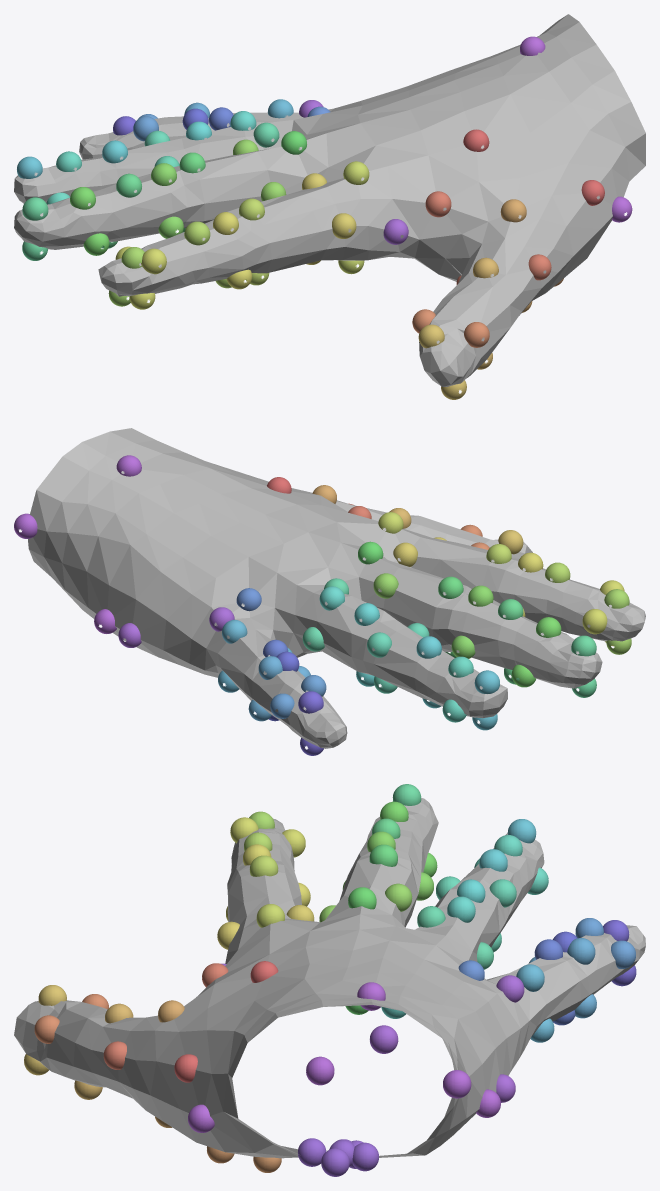
The model's file is mano_flat_hand_anchor_groups.glb.
The picture shows the model from 3 angles, top to bottom: view 1: azimuth 30°, elevation 25°; view 2: azimuth 150°, elevation 25°; view 3: azimuth 270°, elevation 25°; orthographic projection. The views are drawn at different scales.
Parts seen in each view (by area): view 1: flat_hand_mesh, thumb_segment_2_ring_01_v014; view 2: flat_hand_mesh, index_segment_3_ring_00_v336, middle_segment_1_ring_01_v383, ring_segment_2_ring_00_v505, ring_tip_updown_01_v537, pinky_segment_3_ring_00_v634, palm_palmar_surface_04_v078, ring_joint_1_updown_01_v509, ring_joint_3_updown_01_v516, index_segment_1_ring_01_v186, pinky_tip_updown_01_v650; view 3: flat_hand_mesh, wrist_cuff_palmar_05_v117, palm_palmar_surface_02_v027, palm_dorsal_surface_00_v146, palm_palmar_surface_04_v078, wrist_cuff_palmar_01_v033, wrist_cuff_palmar_02_v116, ring_joint_1_updown_01_v509, palm_palmar_surface_01_v041, pinky_segment_1_ring_02_v627, pinky_segment_2_ring_02_v588, pinky_segment_3_ring_00_v634.
Boxes of the visible parts, x1=… form: flat_hand_mesh: x1=14, y1=14, x2=645, y2=386; thumb_segment_2_ring_01_v014: x1=425, y1=191, x2=451, y2=217; flat_hand_mesh: x1=28, y1=428, x2=645, y2=748; index_segment_3_ring_00_v336: x1=582, y1=609, x2=607, y2=634; middle_segment_1_ring_01_v383: x1=373, y1=573, x2=398, y2=598; ring_segment_2_ring_00_v505: x1=367, y1=632, x2=391, y2=657; ring_tip_updown_01_v537: x1=474, y1=670, x2=499, y2=693; pinky_segment_3_ring_00_v634: x1=270, y1=693, x2=294, y2=718; palm_palmar_surface_04_v078: x1=14, y1=513, x2=37, y2=538; ring_joint_1_updown_01_v509: x1=319, y1=586, x2=344, y2=610; ring_joint_3_updown_01_v516: x1=416, y1=636, x2=441, y2=658; index_segment_1_ring_01_v186: x1=393, y1=542, x2=417, y2=566; pinky_tip_updown_01_v650: x1=298, y1=691, x2=323, y2=713; flat_hand_mesh: x1=14, y1=798, x2=645, y2=1158; wrist_cuff_palmar_05_v117: x1=321, y1=1148, x2=349, y2=1176; palm_palmar_surface_02_v027: x1=306, y1=1056, x2=334, y2=1085; palm_dorsal_surface_00_v146: x1=369, y1=1025, x2=398, y2=1053; palm_palmar_surface_04_v078: x1=443, y1=1070, x2=471, y2=1098; wrist_cuff_palmar_01_v033: x1=352, y1=1142, x2=378, y2=1171; wrist_cuff_palmar_02_v116: x1=298, y1=1138, x2=326, y2=1166; ring_joint_1_updown_01_v509: x1=447, y1=896, x2=475, y2=922; palm_palmar_surface_01_v041: x1=188, y1=1104, x2=214, y2=1132; pinky_segment_1_ring_02_v627: x1=516, y1=964, x2=544, y2=991; pinky_segment_2_ring_02_v588: x1=567, y1=938, x2=595, y2=964; pinky_segment_3_ring_00_v634: x1=611, y1=940, x2=635, y2=968.
Size of the model in its own units: 0.1955 by 0.0639 by 0.1677.
